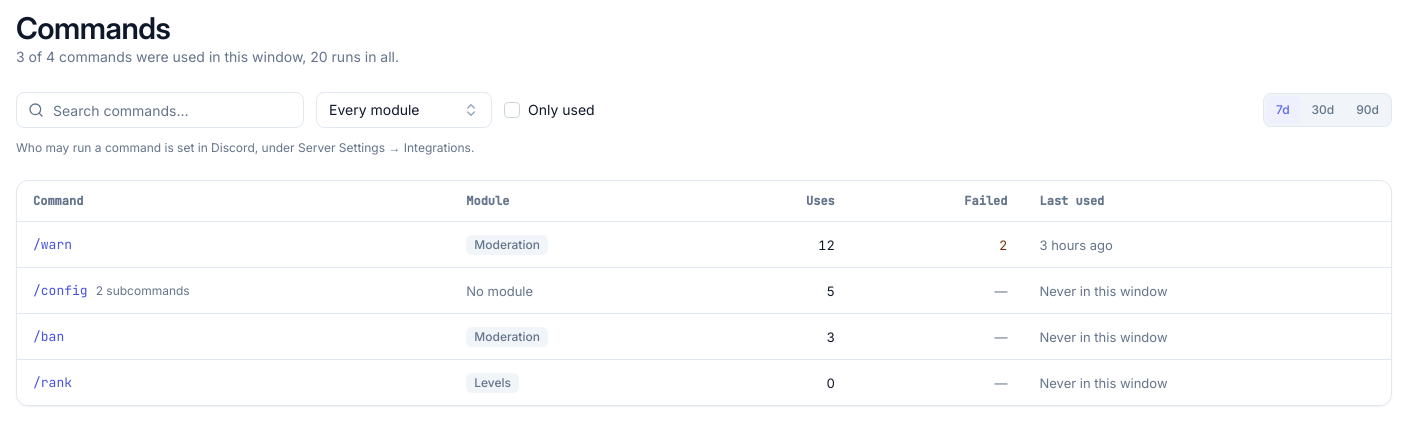
Test: CommandsScreen › filters by name as the moderator types
Type "ban" into the search field labelled "Search commands" at x=160, y=110, box [16, 92, 304, 128]
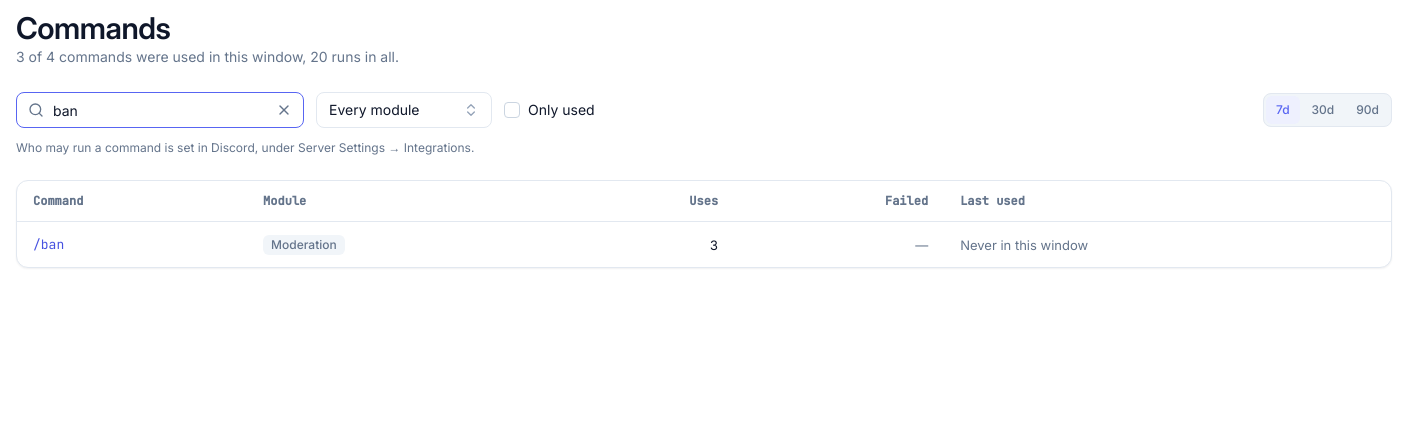
expect the button "/ban" is shown: met, box [33, 235, 64, 255]
expect the button "/rank" is gone: met
